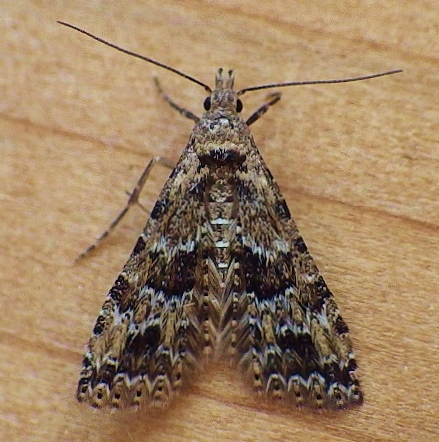Alucitidae: (46, 17, 399, 411)
moth: (48, 19, 401, 413)
